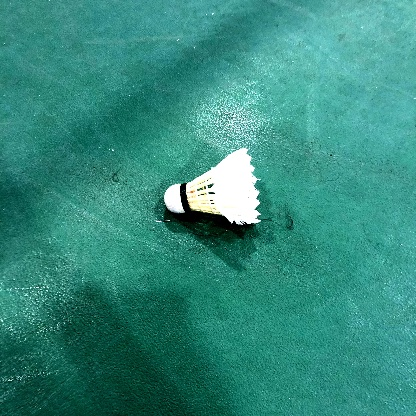ball_single: (164, 147, 260, 225)
